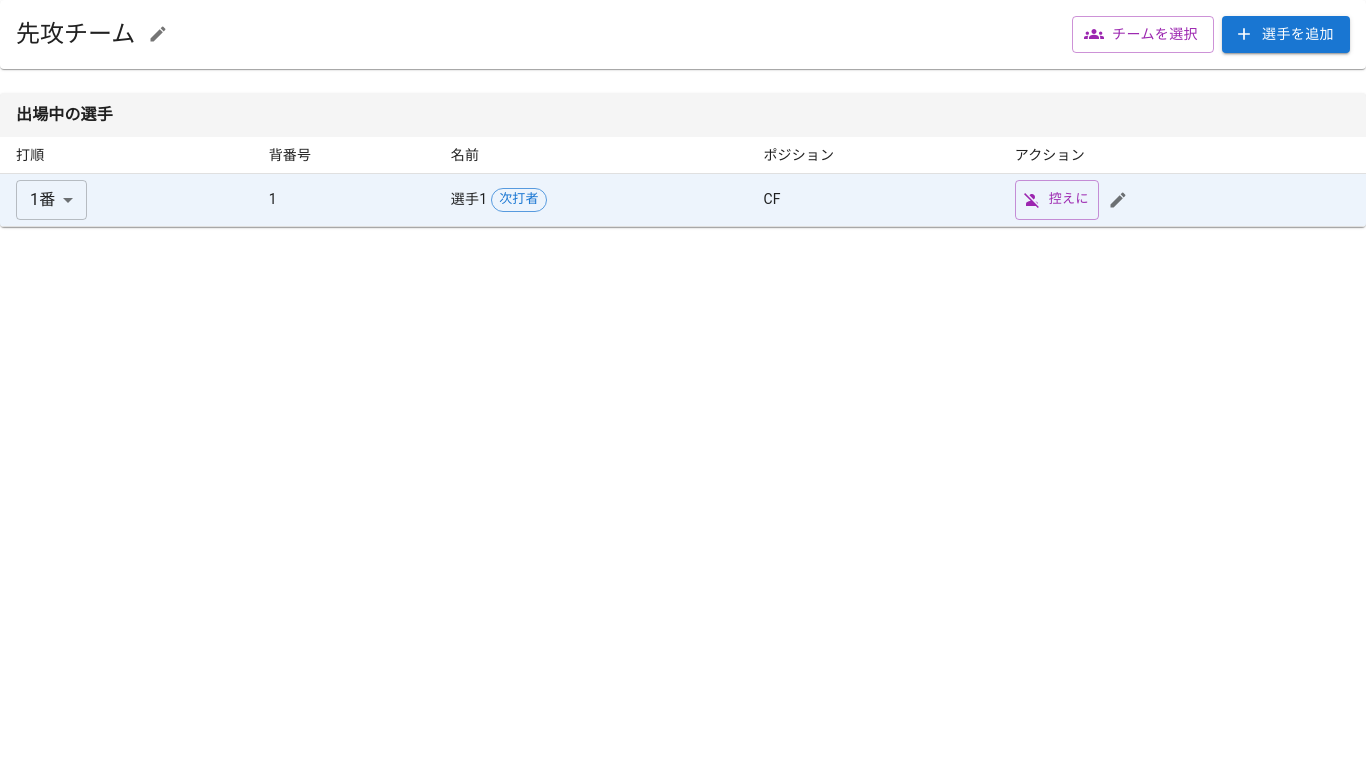
Test: TeamManager - チーム選択導線の統合 › 未ログインの場合、チーム一覧を取得せずログインを促すメッセージを表示する
The image size is (1366, 768).
Click the button "チームを選択".
click(1143, 34)  # box top-left (1072, 16), bottom-right (1214, 52)
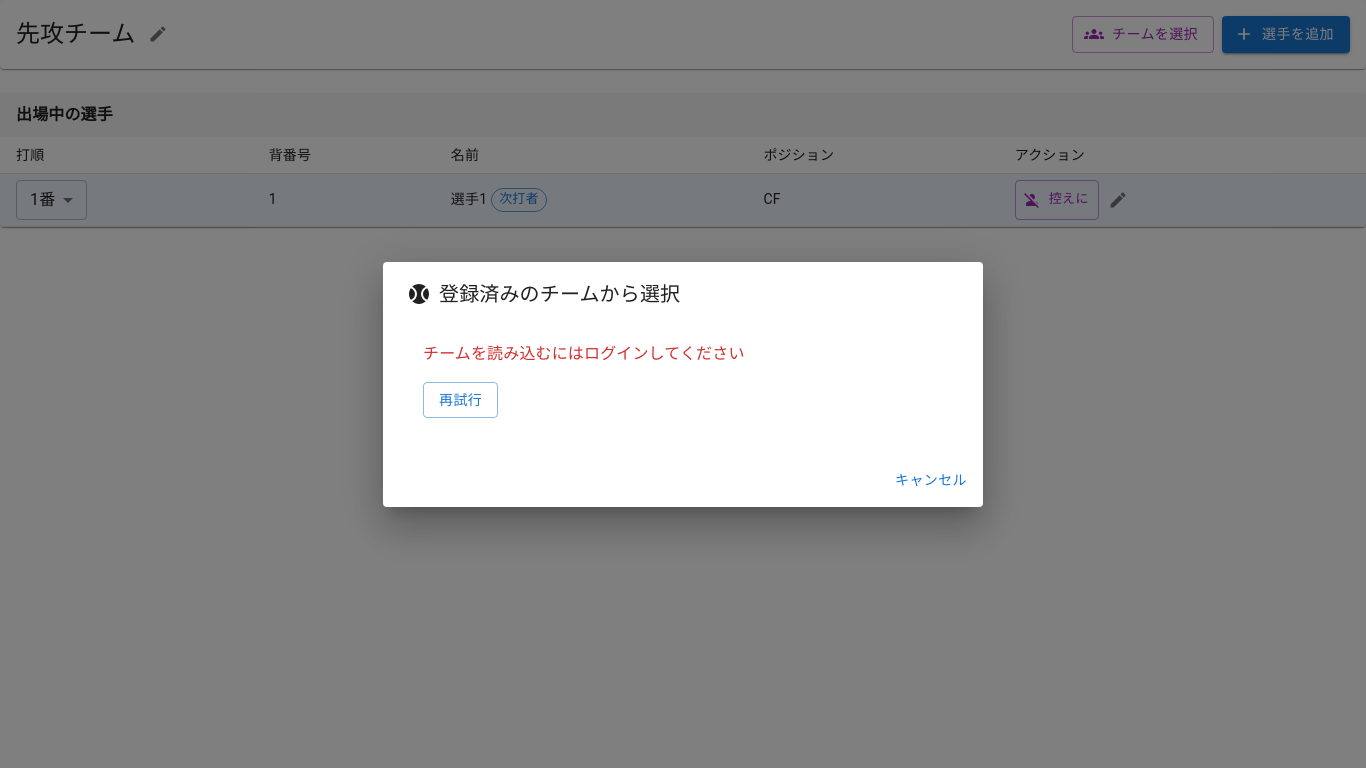
Expected: the text "チームを読み込むにはログインしてください" is shown, top-left (423, 344), bottom-right (745, 362)
